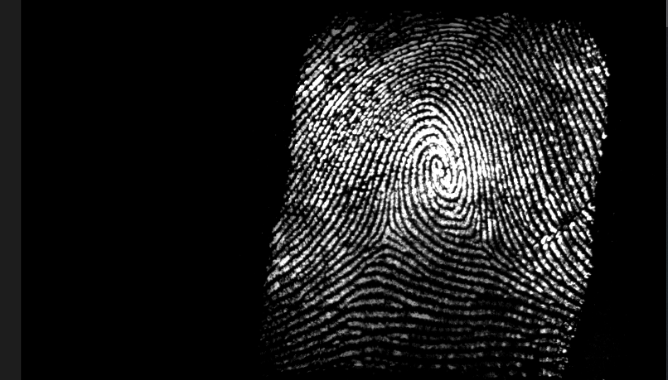deltas: (455, 214, 503, 260), (367, 209, 411, 253)
nucleo: (411, 133, 469, 202)
